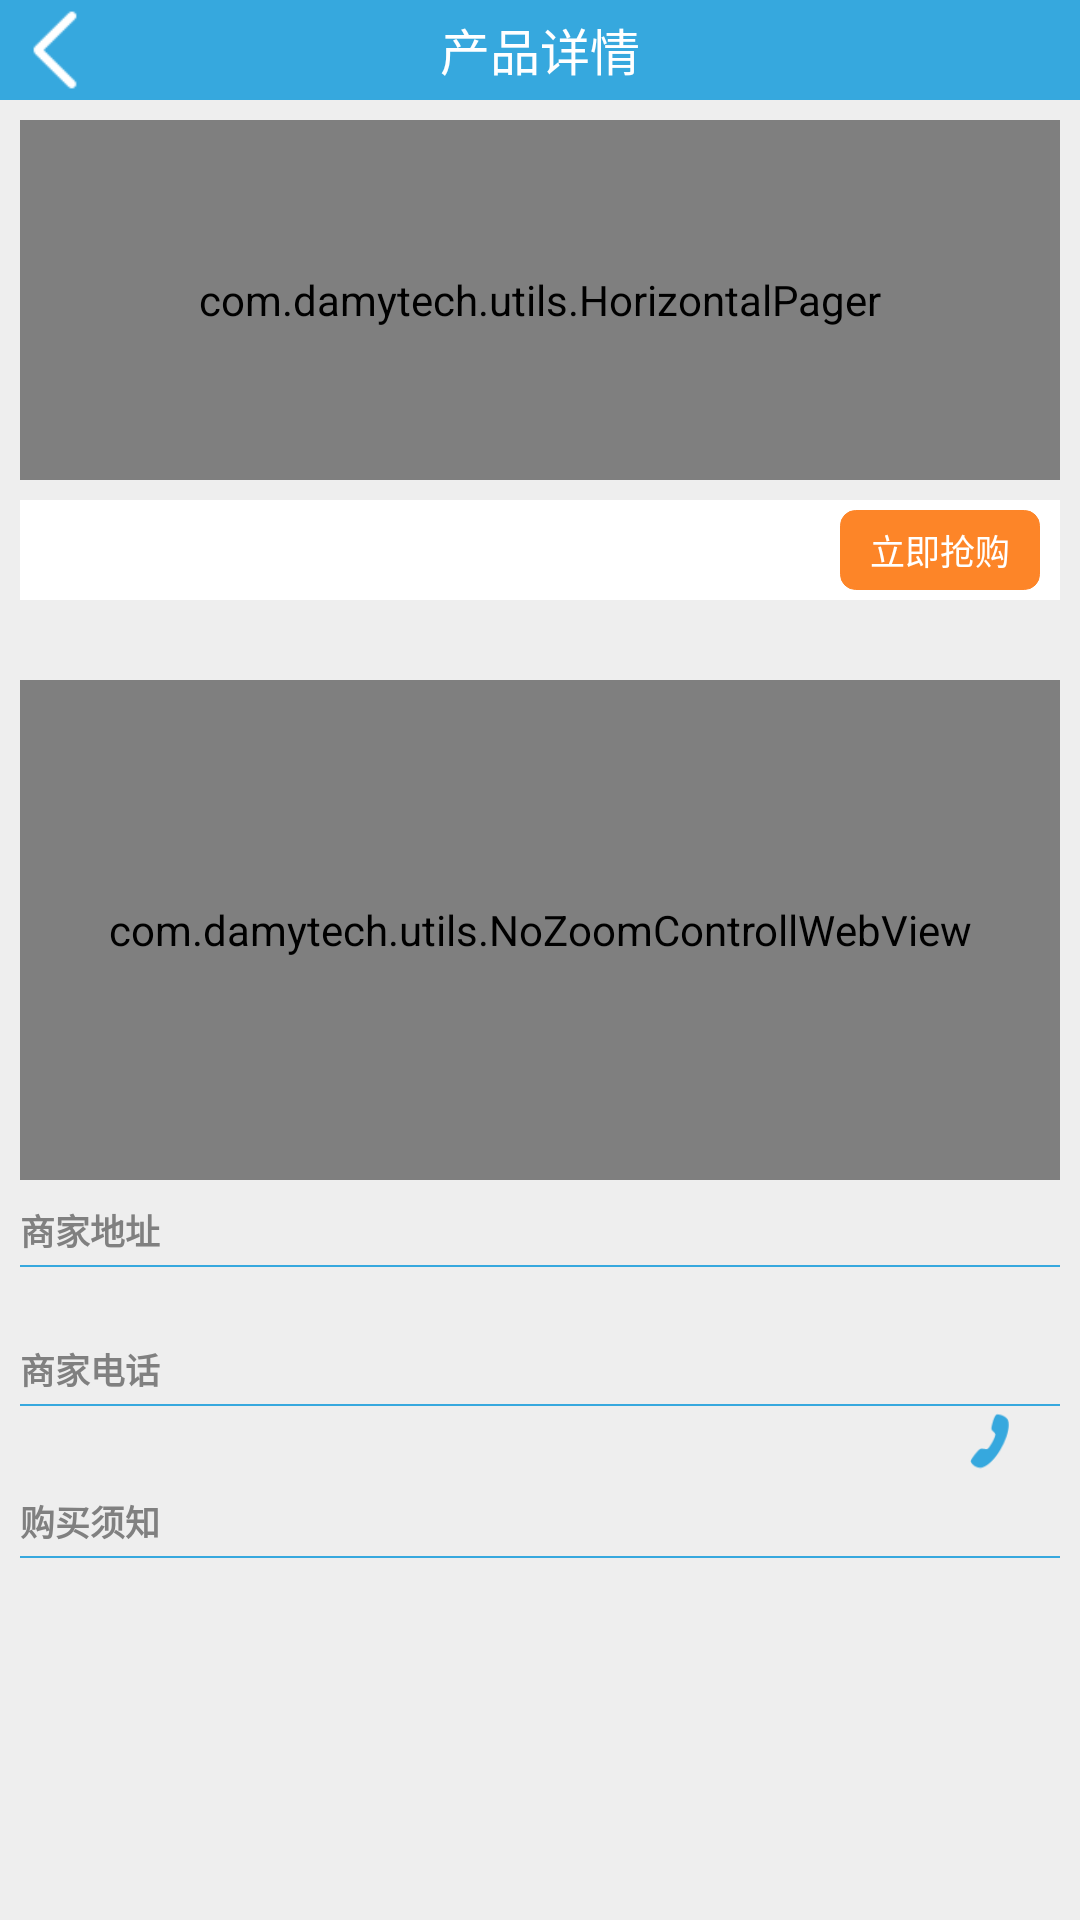

Icon bounding boxes for this 1080x1920 phone screenshot, format box=[x1, y1, x2, y2]:
callicon: box=[970, 1414, 1009, 1469]
leftarrowicon: box=[33, 11, 77, 89]
